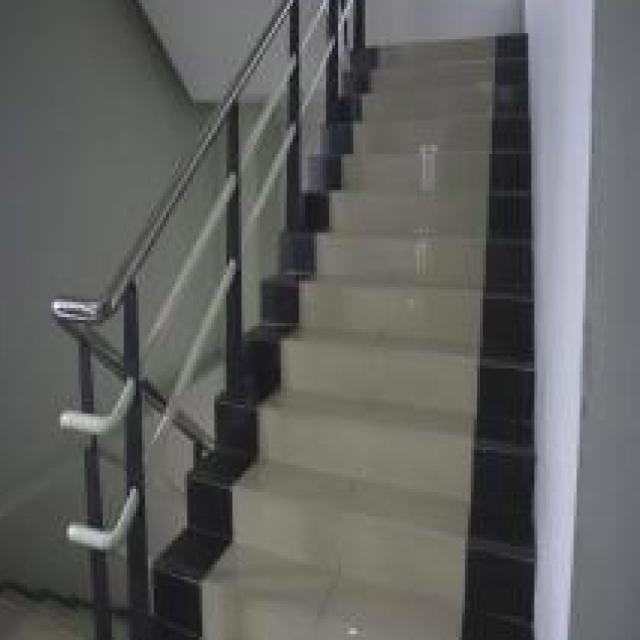upstair: (243, 363, 557, 640)
